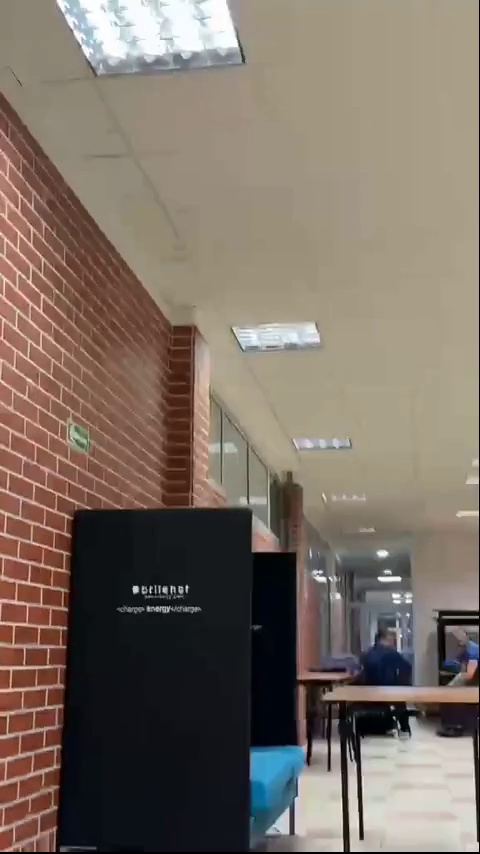no vest: (358, 632, 410, 694), (439, 630, 479, 687)
